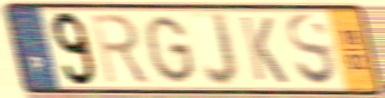9: (49, 9, 99, 89)
G: (141, 13, 198, 85)
J: (202, 9, 241, 90)
K: (237, 14, 291, 86)
R: (88, 11, 153, 86)
S: (284, 11, 340, 89)
